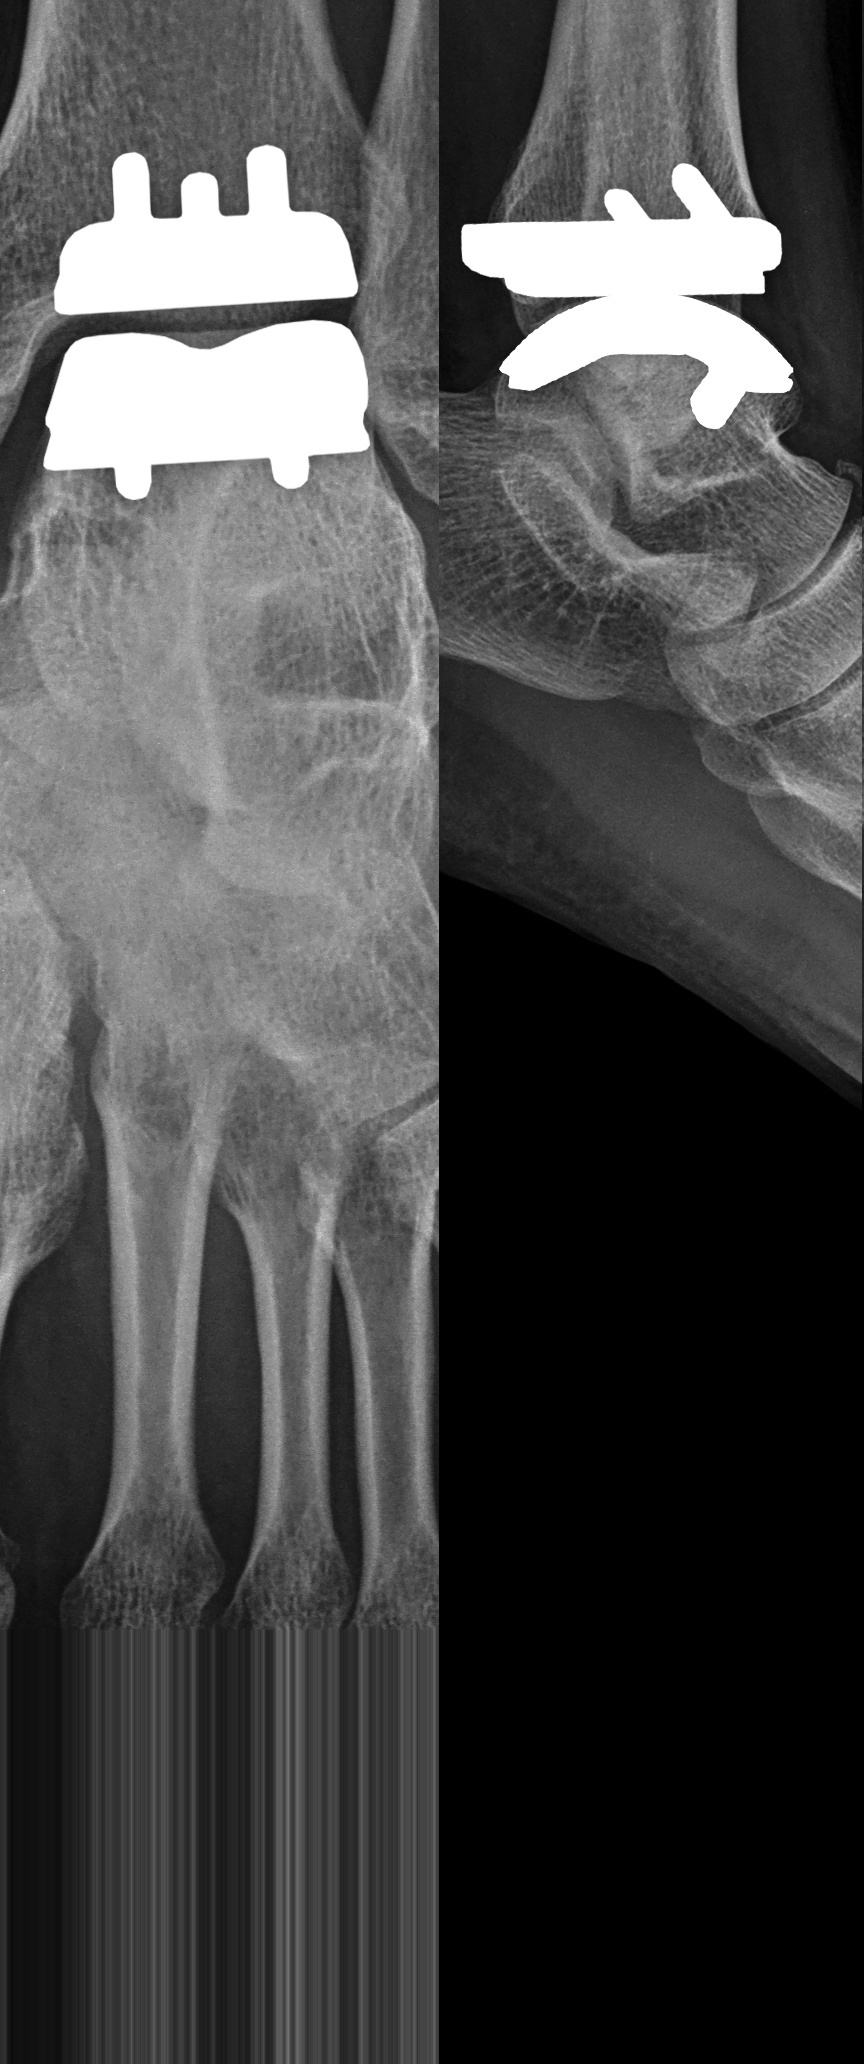Ankle - Infinity - Wright: (30, 137, 411, 519), (446, 158, 817, 440)
